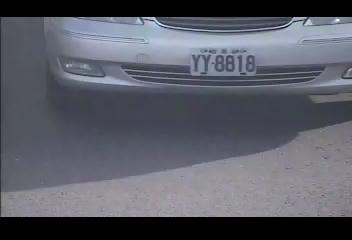plate: (188, 46, 256, 77)
